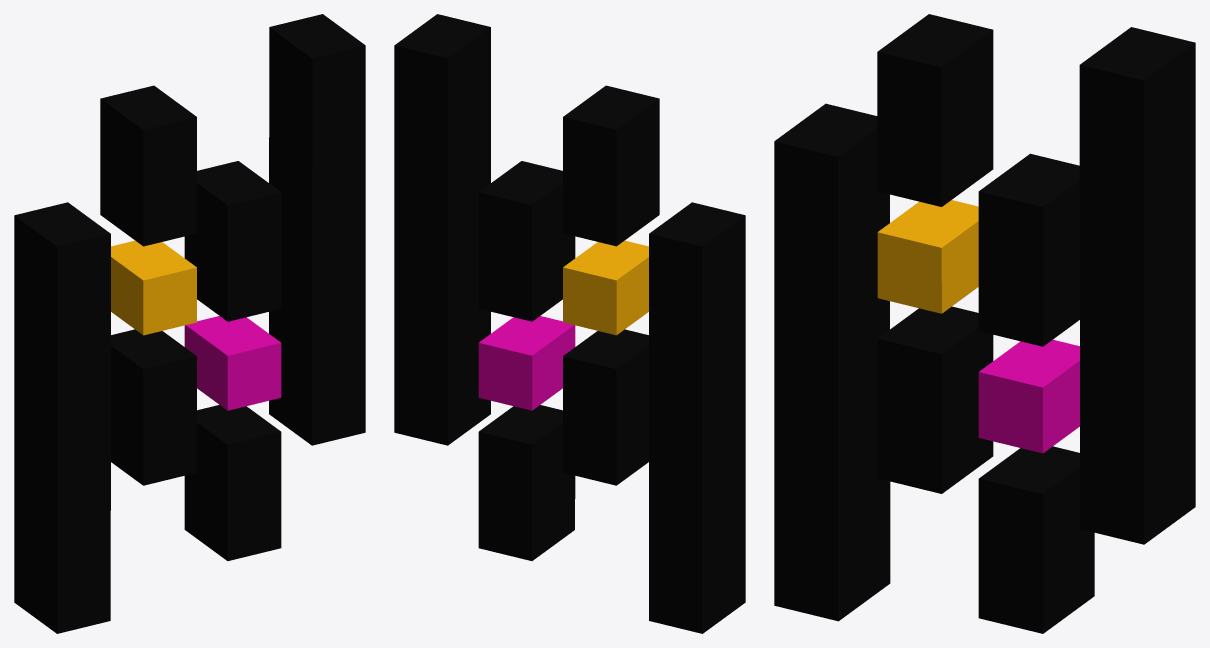
Rendered from pandas.glb.
The picture shows the model from 3 angles, left to right: view 1: azimuth 30°, elevation 25°; view 2: azimuth 150°, elevation 25°; view 3: azimuth 330°, elevation 25°; orthographic projection. The views are drawn at different scales.
Parts seen in each view (by area): view 1: Curve.007; view 2: Curve.007; view 3: Curve.007.
Boxes of the visible parts, x1=… form: Curve.007: x1=14, y1=14, x2=365, y2=633; Curve.007: x1=394, y1=14, x2=745, y2=633; Curve.007: x1=774, y1=14, x2=1195, y2=633.
Size of the model in its own units: 0.1327 by 0.211 by 0.0322.
